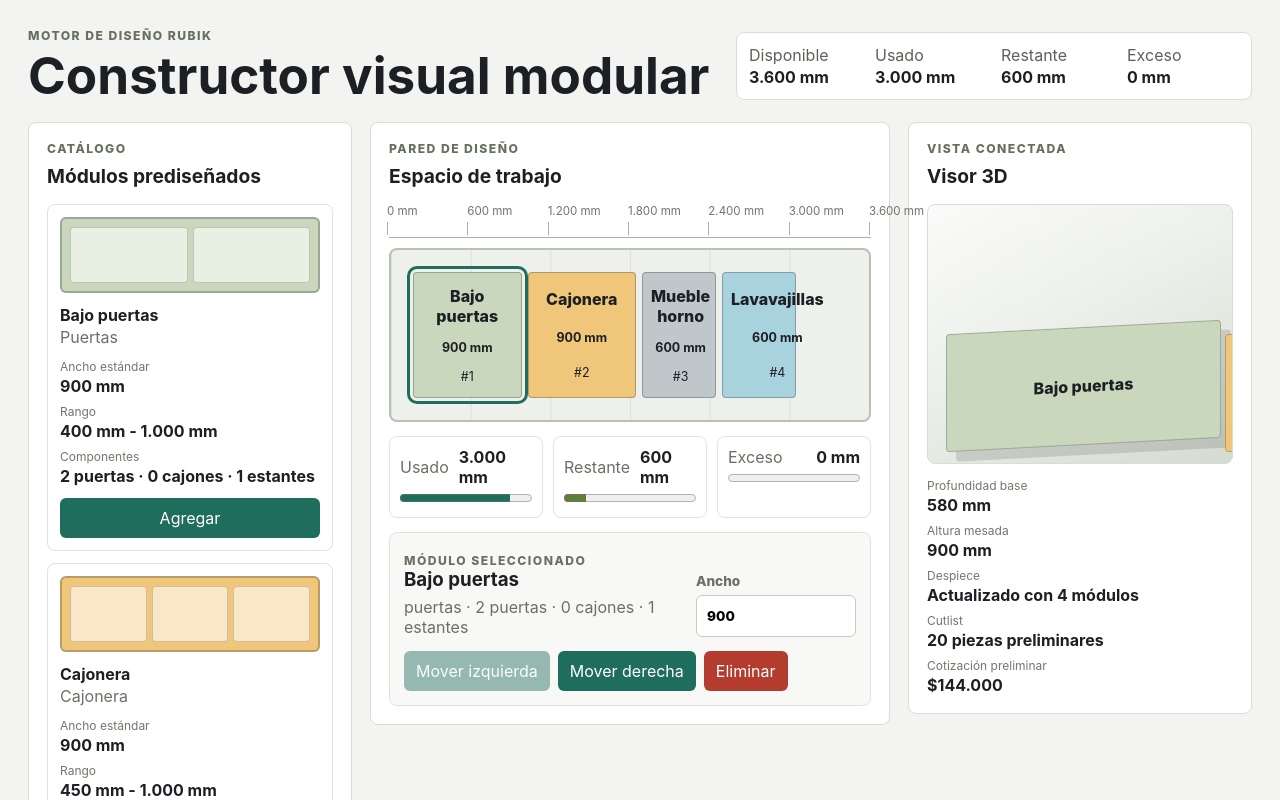
Test case: Design engine visual modular builder › keeps the connected 3d and technical summary in sync with the module list
Expected: the element named "Representación 3D de la composición actual" is shown, [927,204,1233,464]
Expected: the text "Actualizado con 4 módulos" is shown, [927,585,1139,605]
Click the button with aria-label "Seleccionar Lavavajillas 4" at (759, 335), box [722,272,796,398]
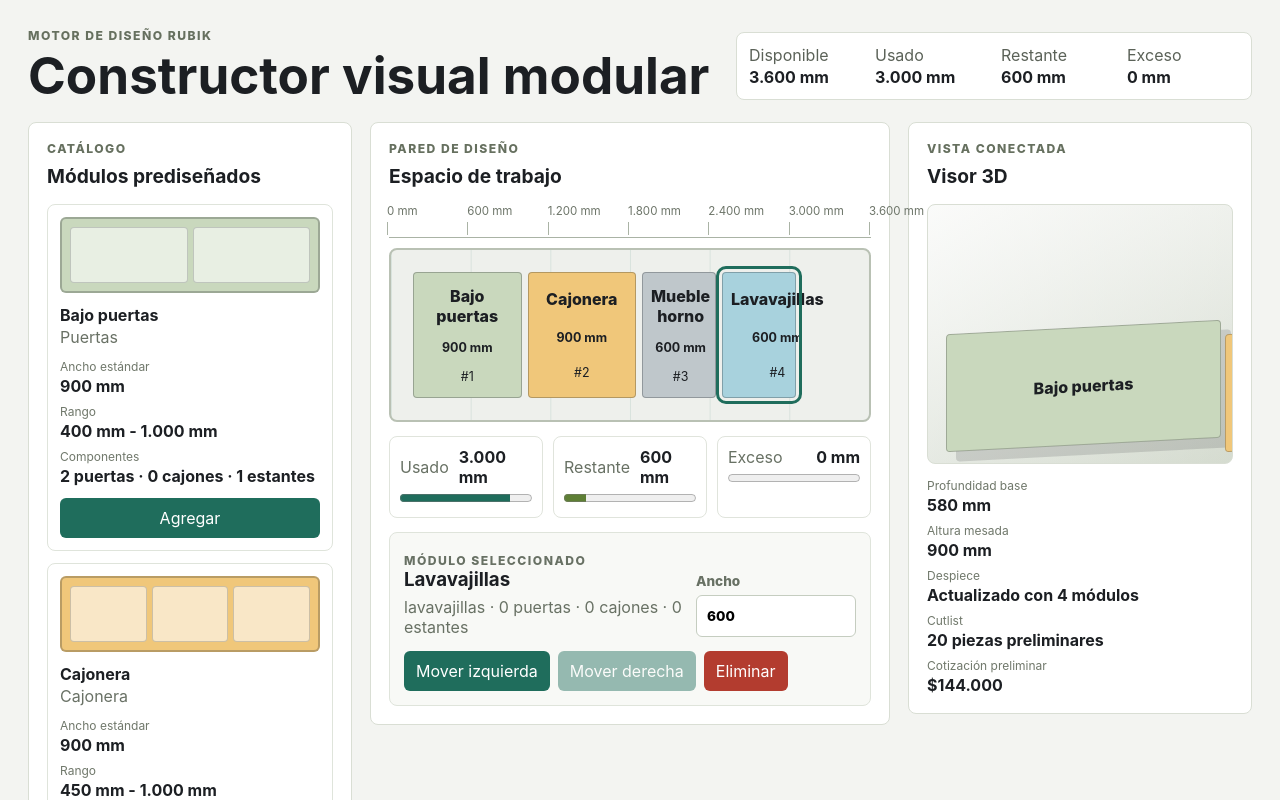
Click the button "Eliminar" at (746, 671), box [704,651,788,691]
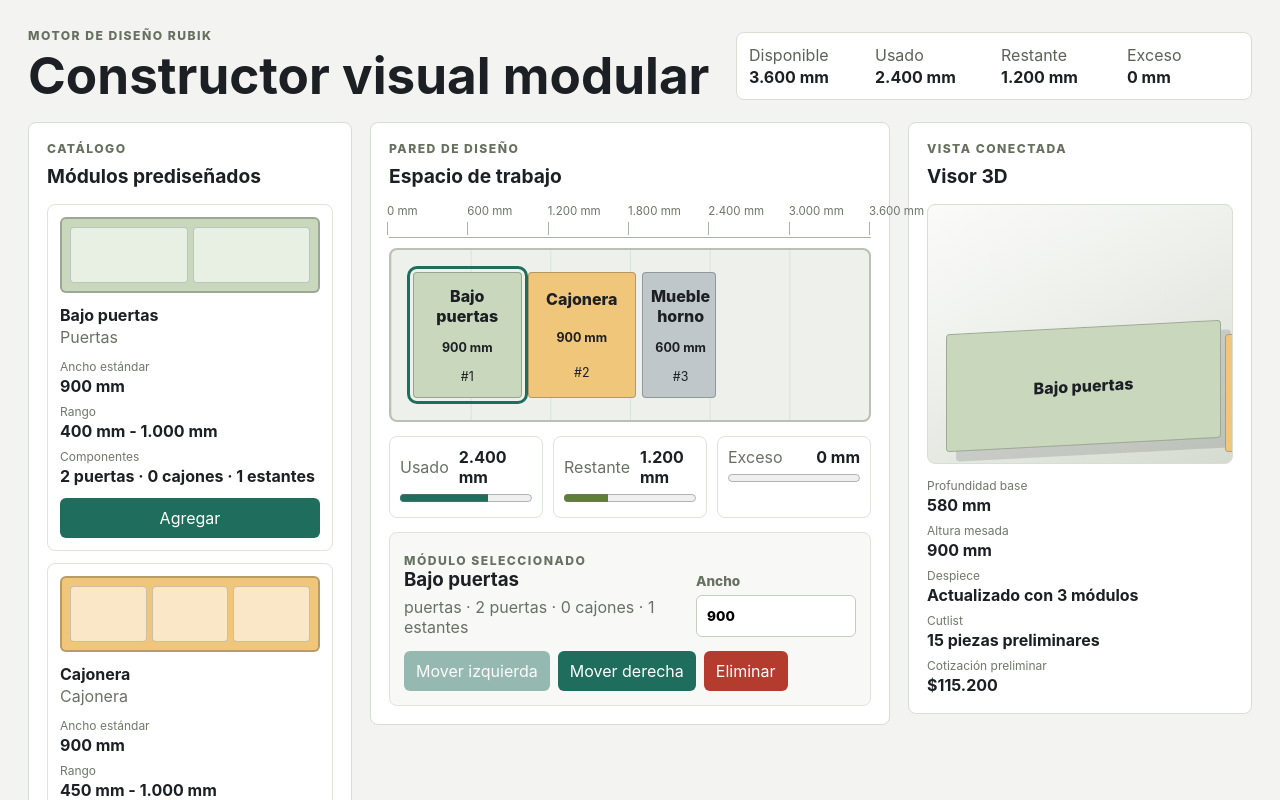
Expected: the text "Actualizado con 3 módulos" is shown, [927,585,1139,605]
Expected: the text "15 piezas preliminares" is shown, [927,630,1100,650]
Expected: the text "$115.200" is shown, [927,675,998,695]
